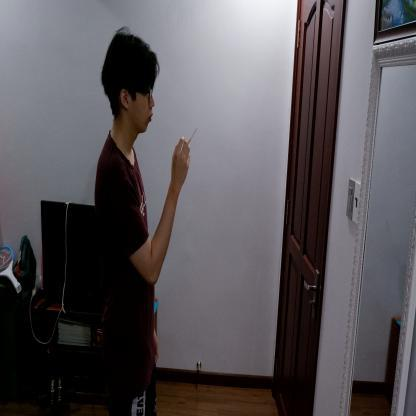cigarette: (187, 126, 198, 148)
person: (92, 25, 191, 415)
